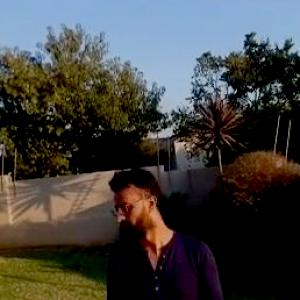follow: (101, 164, 235, 299)
